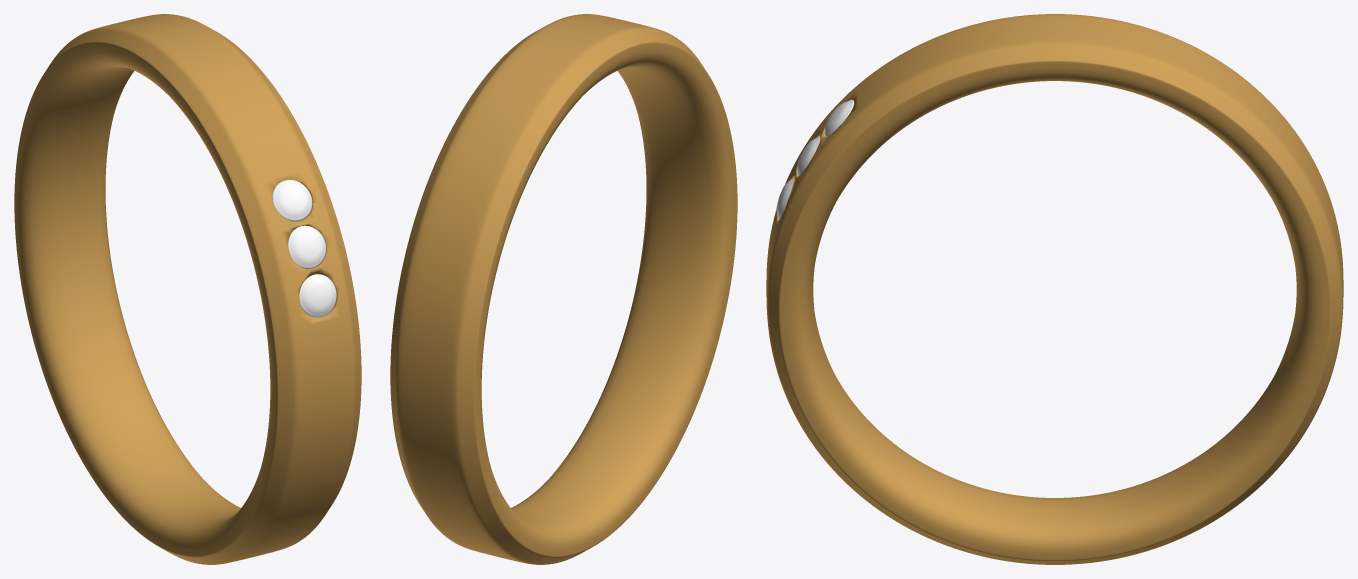
File: Single Color_Tri Diamond.glb
3 renders of one model, left to right at view 1: azimuth 30°, elevation 25°; view 2: azimuth 150°, elevation 25°; view 3: azimuth 270°, elevation 25°, orthographic. The views are drawn at different scales.
Visible parts, largest first — view 1: 3 Diamond Base, 3 Diamonds; view 2: 3 Diamond Base; view 3: 3 Diamond Base, 3 Diamonds.
Part boxes in pixels (<box>): 3 Diamond Base: <box>14,14,361,564</box>; 3 Diamonds: <box>272,179,336,317</box>; 3 Diamond Base: <box>390,14,737,564</box>; 3 Diamond Base: <box>766,14,1343,564</box>; 3 Diamonds: <box>776,99,853,220</box>.
Size of the model in its own units: 0.00414 by 0.0234 by 0.0234.
